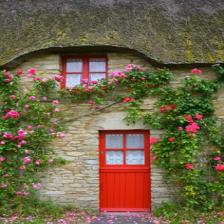red: (100, 130, 150, 212)
